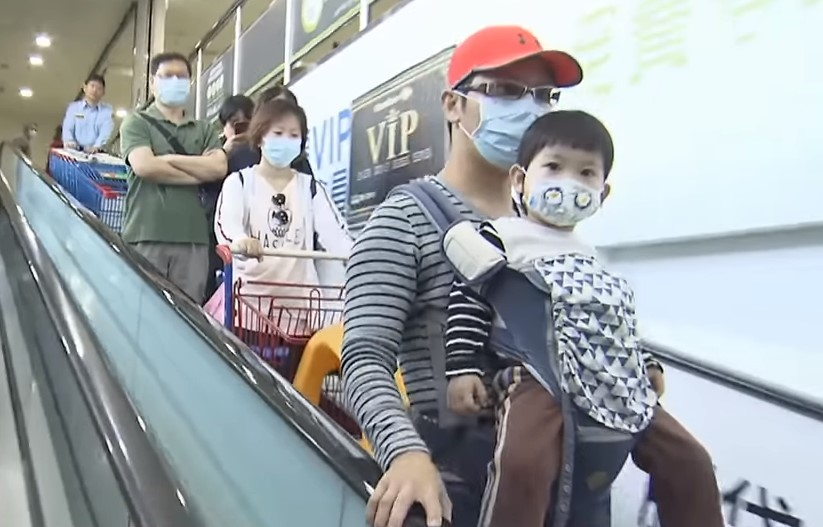face_no_mask: (80, 72, 105, 106)
face_with_mask: (444, 24, 557, 174), (522, 112, 610, 225), (253, 101, 307, 172), (147, 49, 194, 112)
